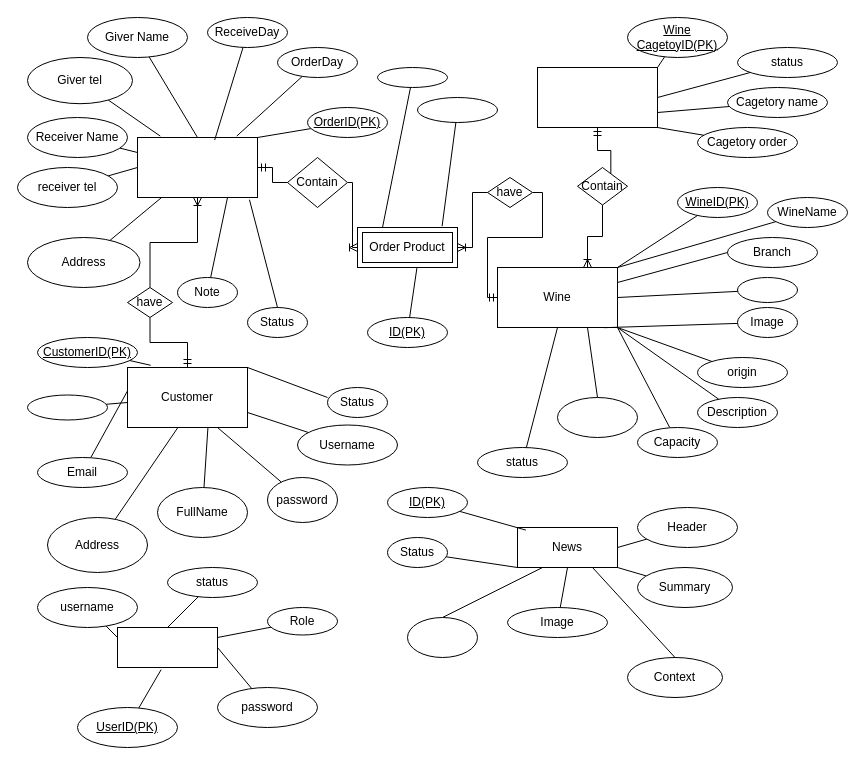
The diagram is 865 pixels wide and 765 high, and some of its shapes have lost their labels. Each missing label, with the centre of its shape:
"Alcohol Concentration" goes at (597,417).
"Day create" goes at (442,637).
"ItemPrice" goes at (412,77).
"ItemQty" goes at (457,109).
"Order" goes at (197,167).
"Price" goes at (767,289).
"Tel" goes at (67,407).
"User" goes at (167,647).
"Wine Cagetory" goes at (597,97).
